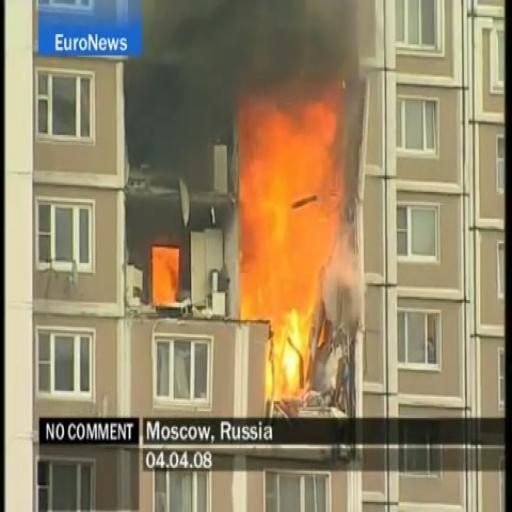fire: (240, 81, 355, 391), (154, 246, 181, 307)
smoke: (149, 18, 369, 72)
